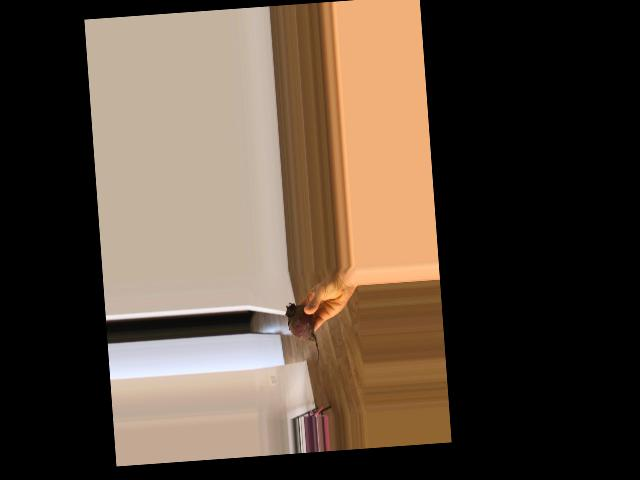beet: (285, 302, 320, 369)
